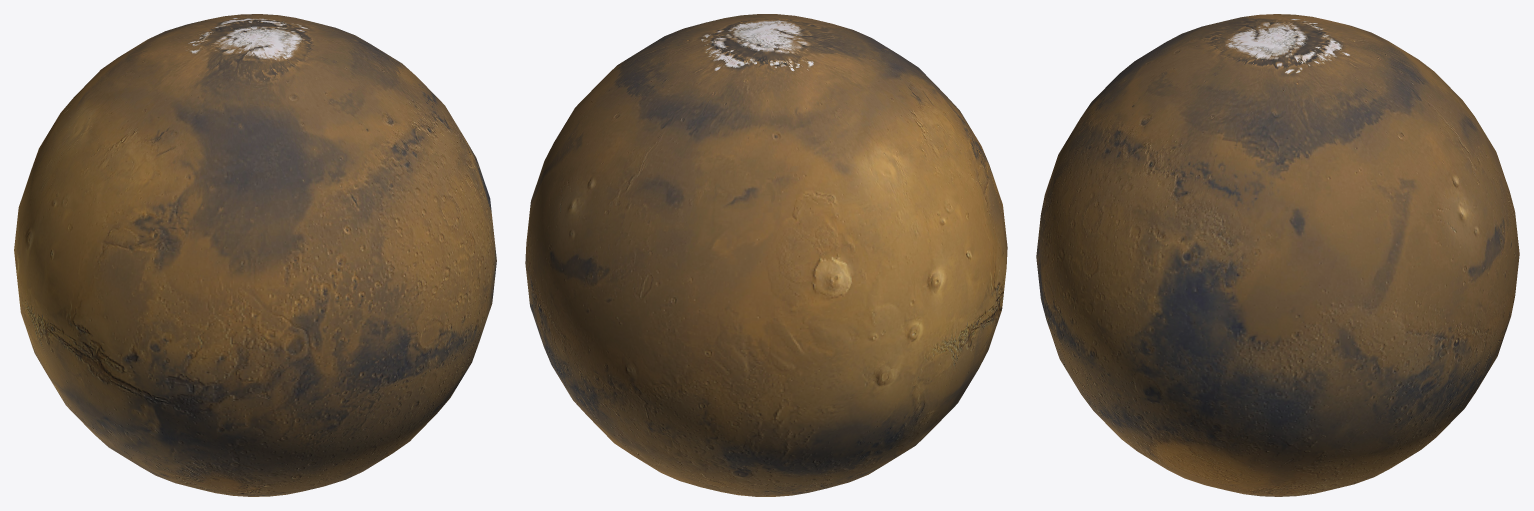
File: huoxing.obj
3 renders of one model, left to right at view 1: azimuth 30°, elevation 25°; view 2: azimuth 150°, elevation 25°; view 3: azimuth 270°, elevation 25°, orthographic.
Visible parts, largest first — view 1: Sphere001; view 2: Sphere001; view 3: Sphere001.
Part boxes in pixels (x1,y1,x2,y2): Sphere001: [14, 14, 496, 496]; Sphere001: [525, 14, 1007, 496]; Sphere001: [1036, 14, 1519, 496].
Bounding box in the file's own units: 78.32 × 78.33 × 78.32.
1 material, 1 textured.
